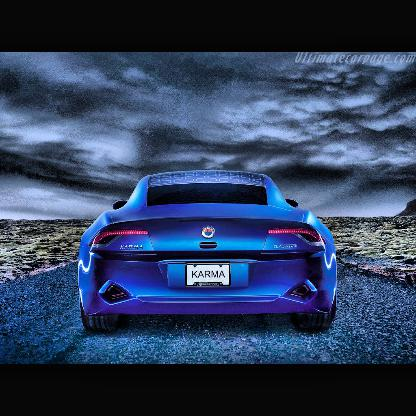Fisker Karma Sedan 2012: (76, 169, 342, 336)
